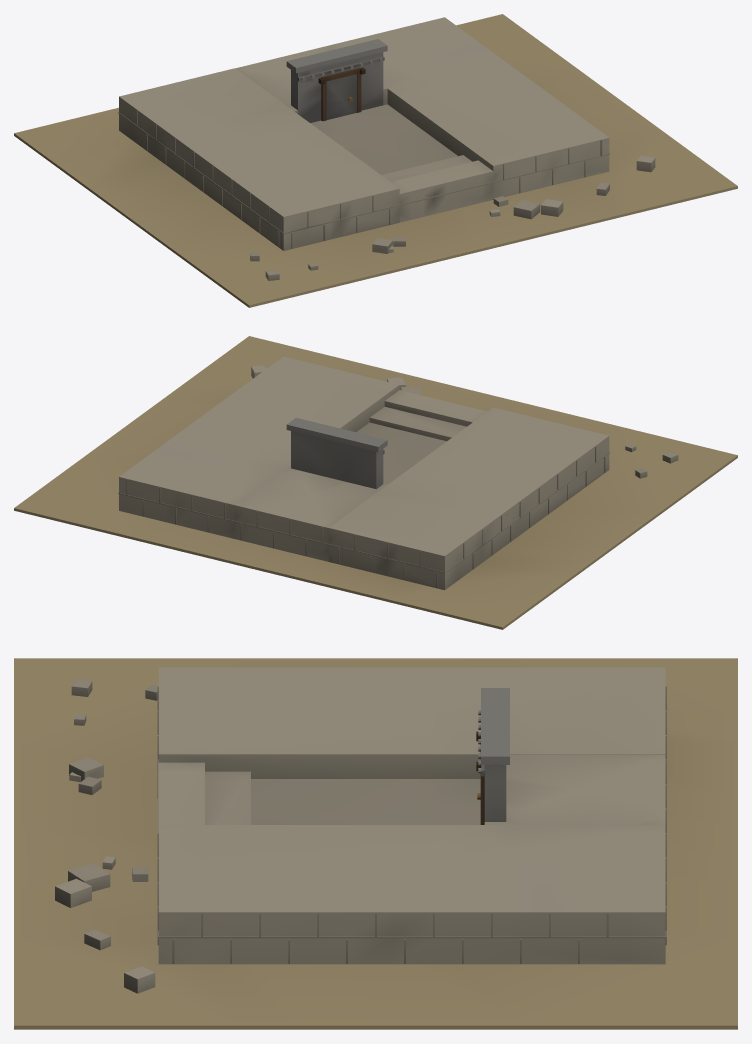
Rendered from tomb-false-door.glb.
3 renders of one model, top to bottom at view 1: azimuth 30°, elevation 25°; view 2: azimuth 150°, elevation 25°; view 3: azimuth 270°, elevation 25°, orthographic. The views are drawn at different scales.
Visible parts, largest first — view 1: p1_tomb, p0_ground, p2_false door; view 2: p1_tomb, p0_ground, p2_false door; view 3: p1_tomb, p0_ground, p2_false door.
Part boxes in pixels (box(x1,y1,x2,y2)): p1_tomb: box(118, 17, 609, 250); p0_ground: box(14, 14, 737, 307); p2_false door: box(250, 39, 655, 280); p1_tomb: box(118, 356, 609, 590); p0_ground: box(14, 336, 737, 629); p2_false door: box(251, 365, 678, 489); p1_tomb: box(157, 667, 666, 964); p0_ground: box(14, 658, 737, 1029); p2_false door: box(55, 679, 509, 993).
Bounding box in the file's own units: 24 × 3.77 × 20.
